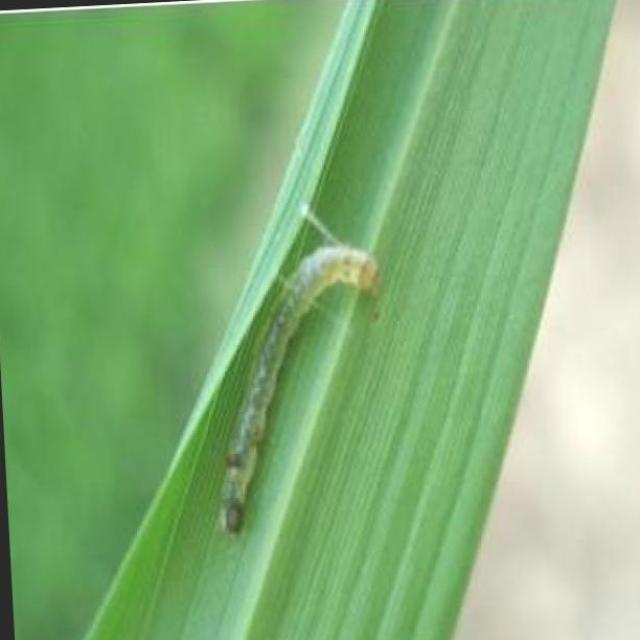leaf folder: (219, 203, 376, 533)
